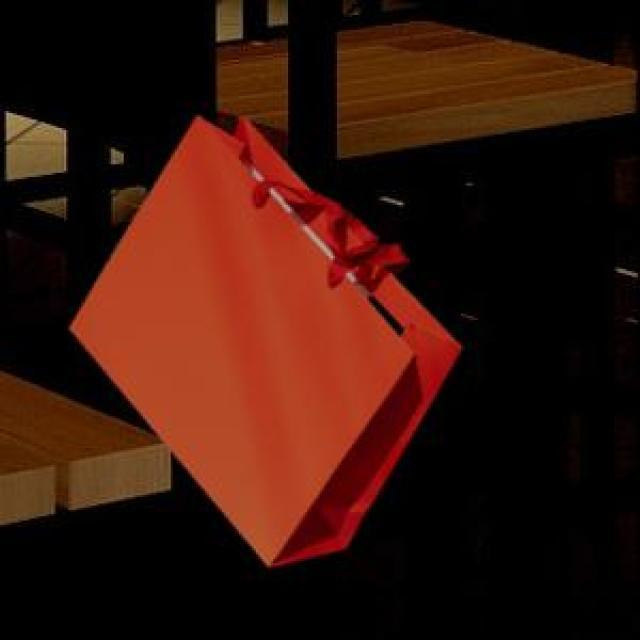paper: (66, 113, 457, 563)
